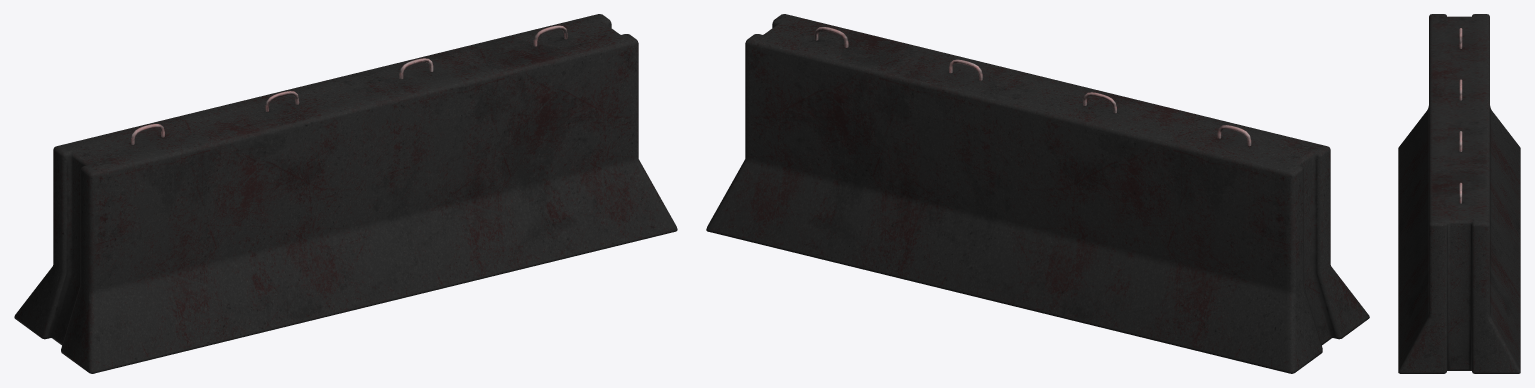
The model's file is ConcreteBlockade.fbx.
3 renders of one model, left to right at view 1: azimuth 30°, elevation 25°; view 2: azimuth 150°, elevation 25°; view 3: azimuth 270°, elevation 25°, orthographic. The views are drawn at different scales.
Visible parts, largest first — view 1: ConcredeBlockade_HP, Handles; view 2: ConcredeBlockade_HP, Handles; view 3: ConcredeBlockade_HP, Handles.
Boxes of the visible parts, x1,y1,x2,y2 form: ConcredeBlockade_HP: [14, 14, 677, 373]; Handles: [131, 25, 567, 144]; ConcredeBlockade_HP: [706, 14, 1369, 373]; Handles: [814, 27, 1251, 146]; ConcredeBlockade_HP: [1398, 14, 1520, 373]; Handles: [1459, 28, 1462, 203].
Size of the model in its own units: 407 by 130 by 93.23.
